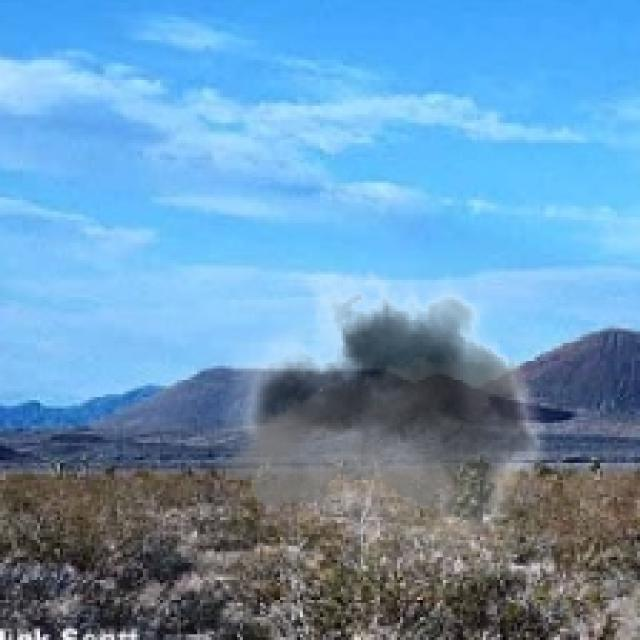Smoke: (220, 251, 566, 600)
